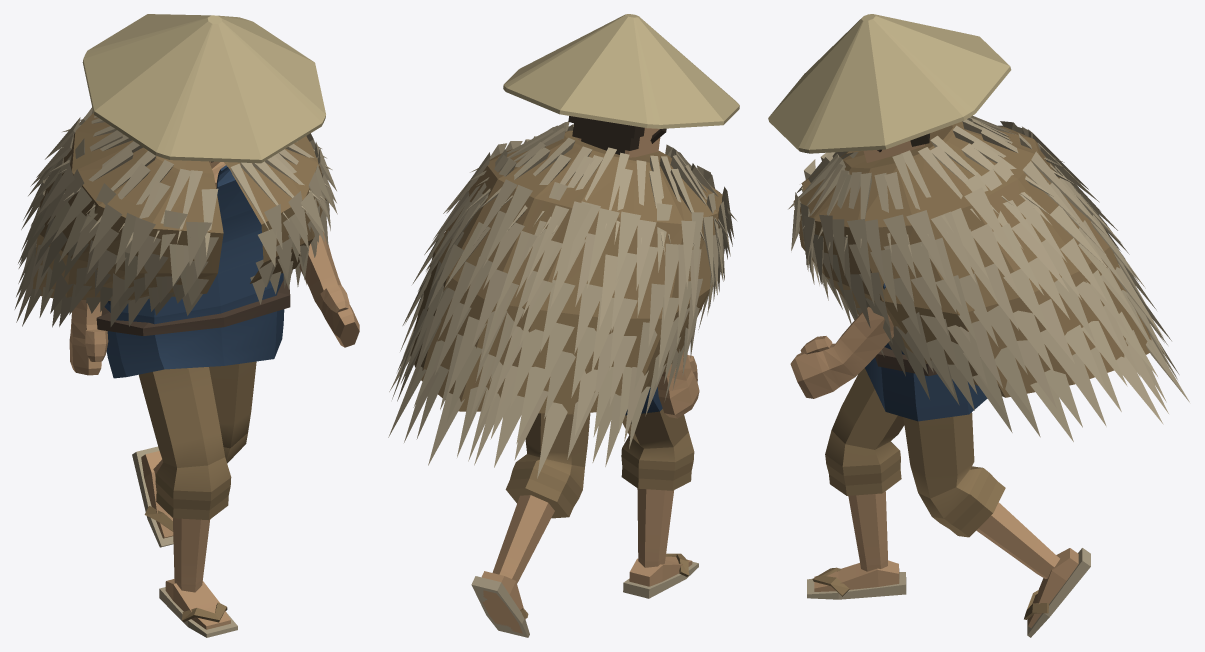
File: farmer-363820__walk5.glb
The picture shows the model from 3 angles, left to right: view 1: azimuth 30°, elevation 25°; view 2: azimuth 150°, elevation 25°; view 3: azimuth 270°, elevation 25°; orthographic projection. The views are drawn at different scales.
Visible parts, largest first — view 1: farmer-363820__walk5; view 2: farmer-363820__walk5; view 3: farmer-363820__walk5.
Boxes of the visible parts, <box> form: farmer-363820__walk5: <box>14,14,359,637</box>; farmer-363820__walk5: <box>388,14,739,637</box>; farmer-363820__walk5: <box>768,14,1189,637</box>.
Bounding box in the file's own units: 0.8881 × 1.82 × 1.17.
